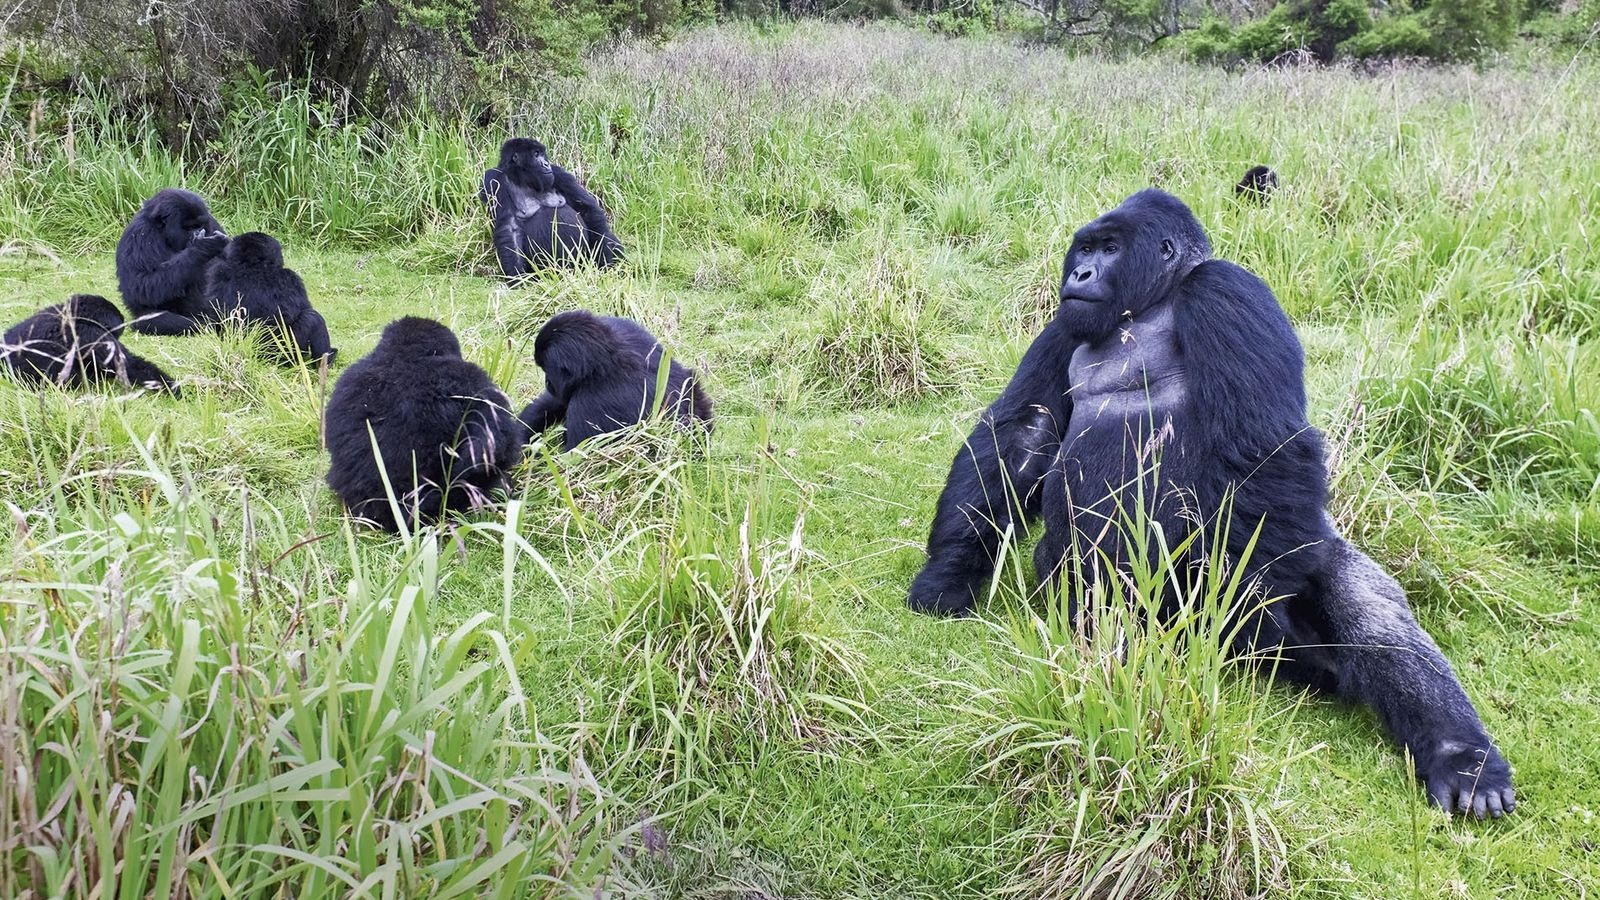gorilla: (904, 173, 1516, 827), (315, 303, 525, 527), (511, 305, 731, 464), (480, 118, 637, 293), (0, 277, 199, 408), (195, 223, 338, 370), (111, 175, 243, 335), (1237, 157, 1293, 216)
